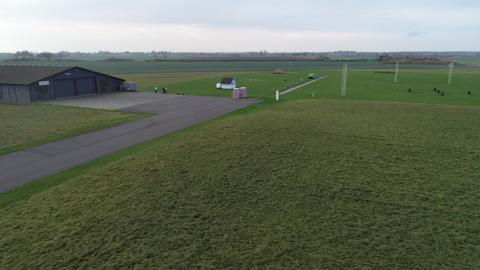RockwoolPallet: (239, 87, 247, 98)
